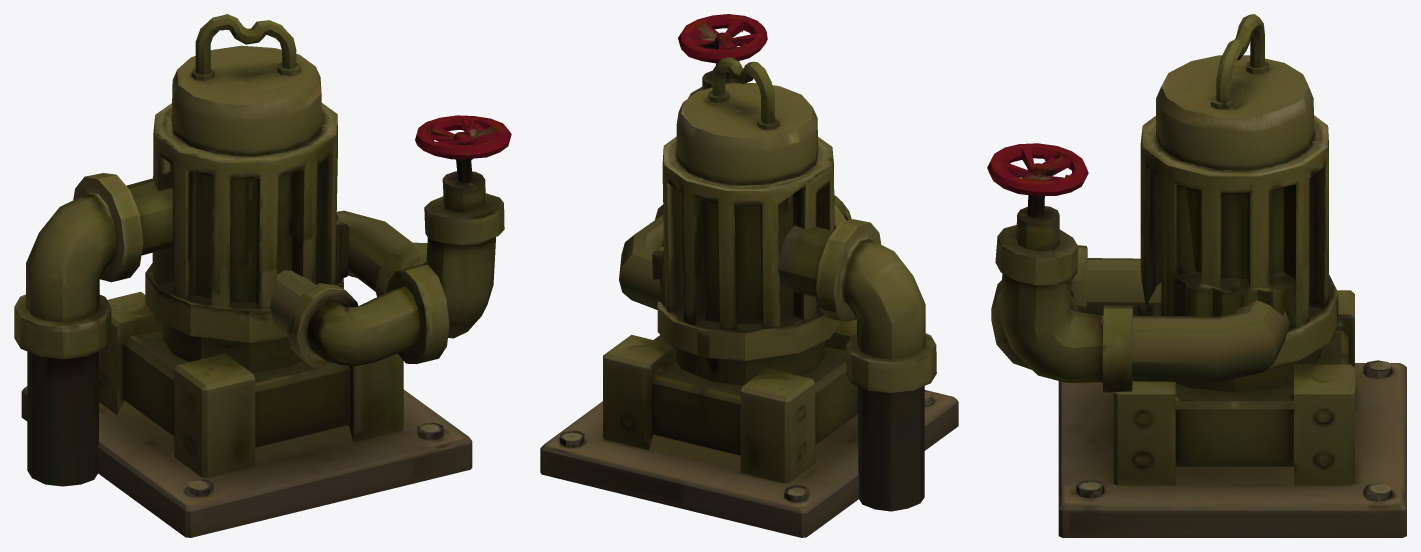
Rendered from sewer_sewage_pump.fbx.
The picture shows the model from 3 angles, left to right: view 1: azimuth 30°, elevation 25°; view 2: azimuth 150°, elevation 25°; view 3: azimuth 270°, elevation 25°; orthographic projection. The views are drawn at different scales.
Parts seen in each view (by area): view 1: sewer_sewage_pump; view 2: sewer_sewage_pump; view 3: sewer_sewage_pump.
Part boxes in pixels (x1,y1,x2,y2): sewer_sewage_pump: (14,14,511,537); sewer_sewage_pump: (540,14,958,537); sewer_sewage_pump: (987,14,1406,537).
Bounding box in the file's own units: 119 × 129 × 111.
